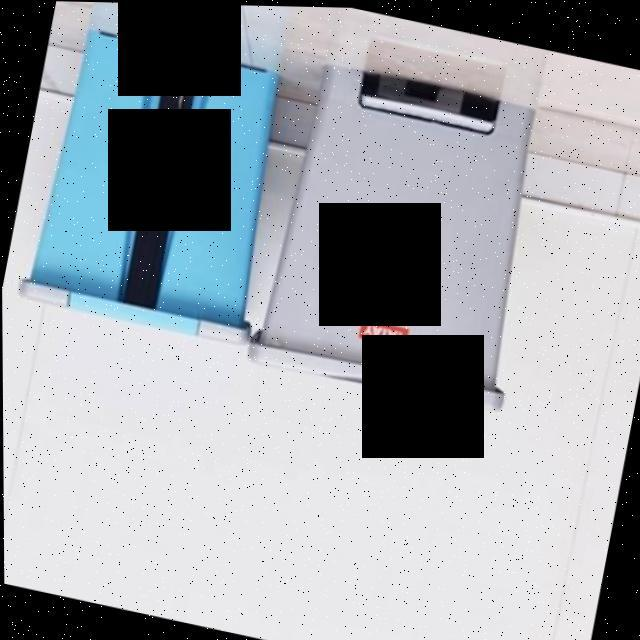bin: (233, 41, 598, 459), (0, 12, 306, 371)
